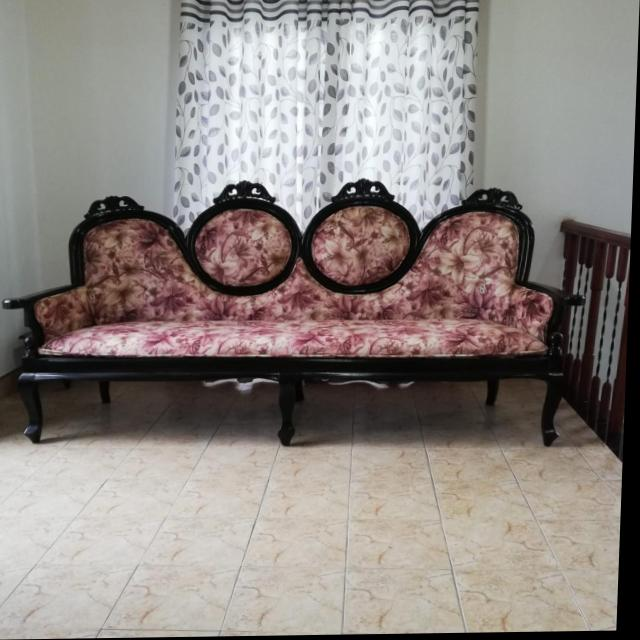Sofa: (0, 187, 588, 453)
